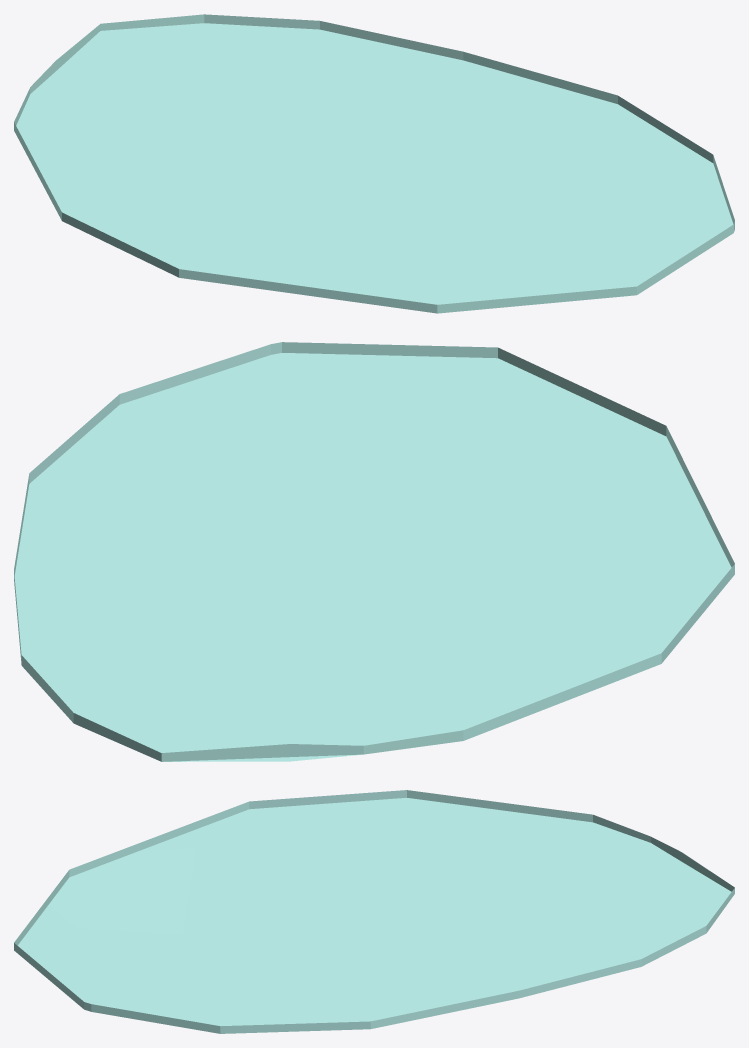
The model's file is Pond.gltf.
3 views of the same model, one above another, from view 1: azimuth 30°, elevation 25°; view 2: azimuth 150°, elevation 25°; view 3: azimuth 270°, elevation 25° (orthographic). The views are drawn at different scales.
Visible parts, largest first — view 1: Pond; view 2: Pond; view 3: Pond.
Part boxes in pixels (x1,y1,x2,y2): Pond: (14,14,734,313); Pond: (14,342,734,761); Pond: (14,790,734,1033).
Size of the model in its own units: 1.79 by 0.0449 by 2.3.
